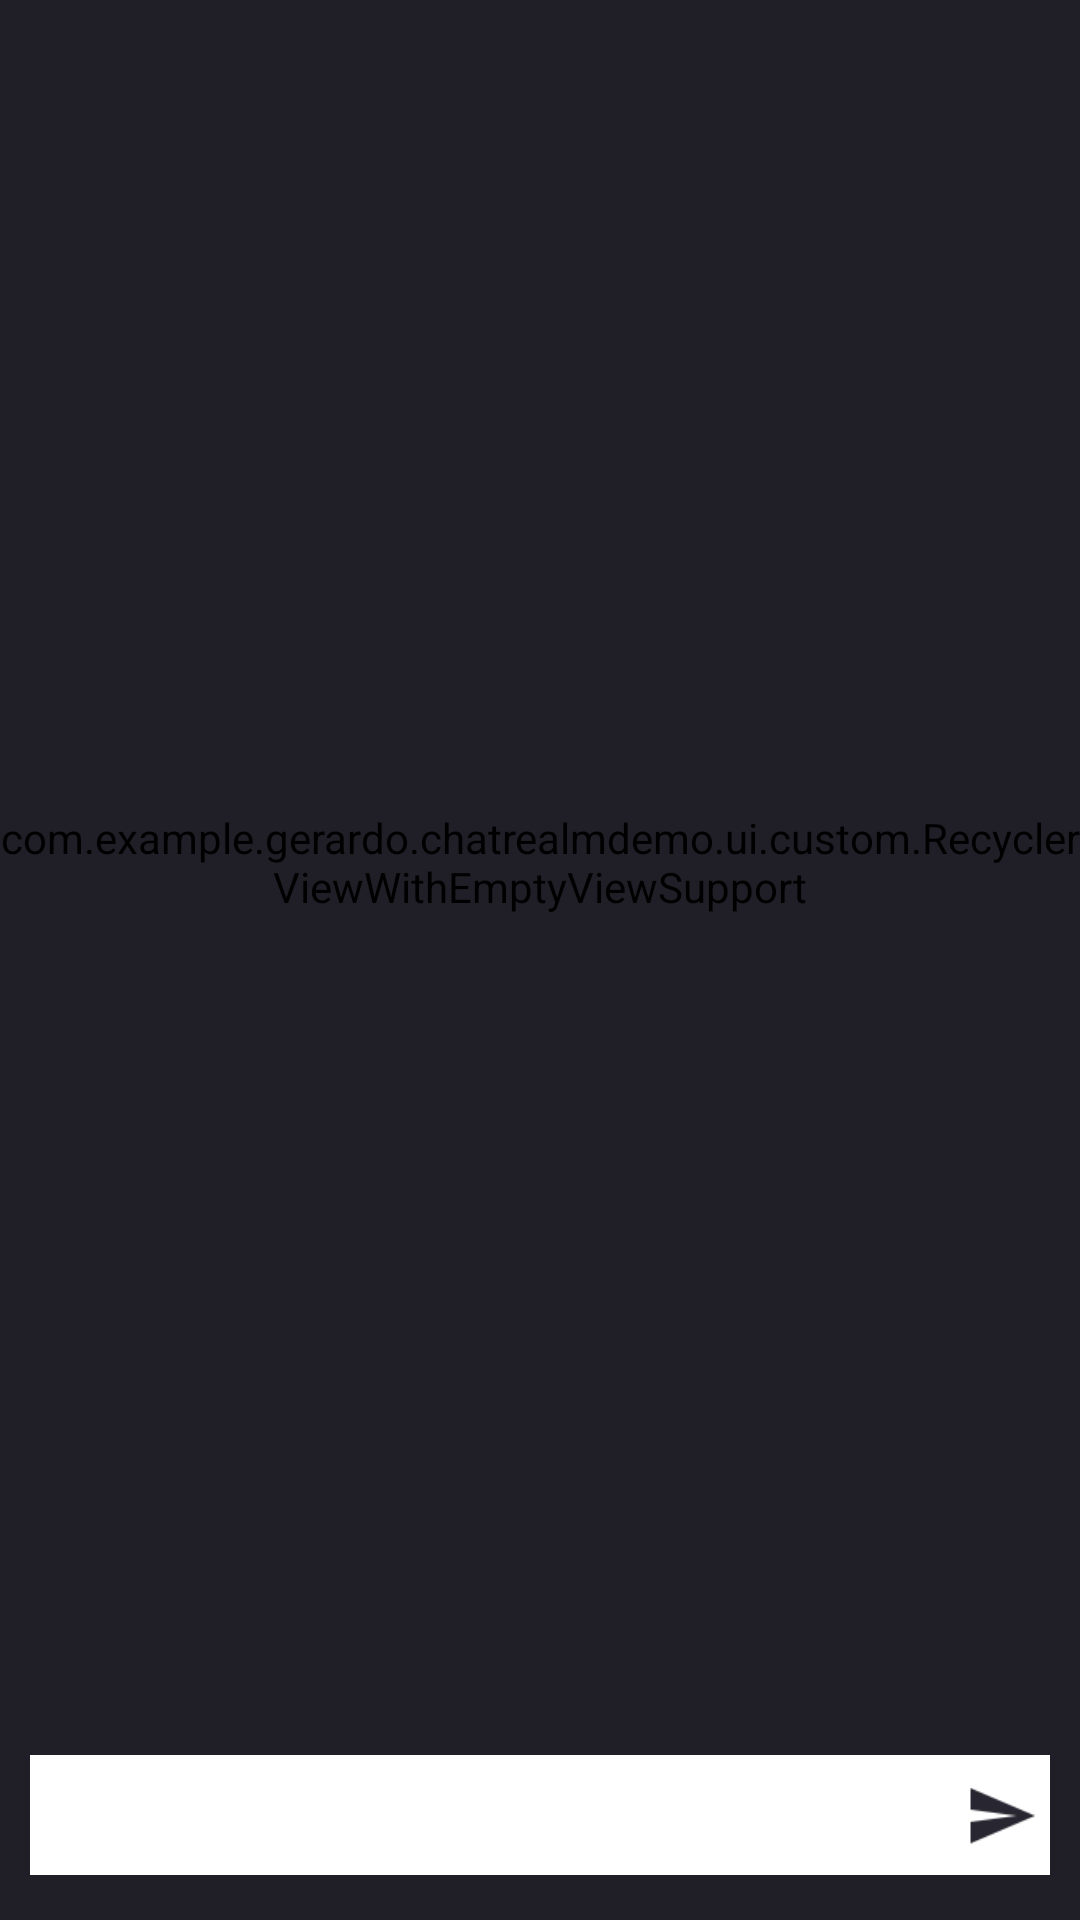

Point at icon controls on the screen. Image size 1080 x 1920, points as (x=x, y=y).
send: (x=1002, y=1816)
